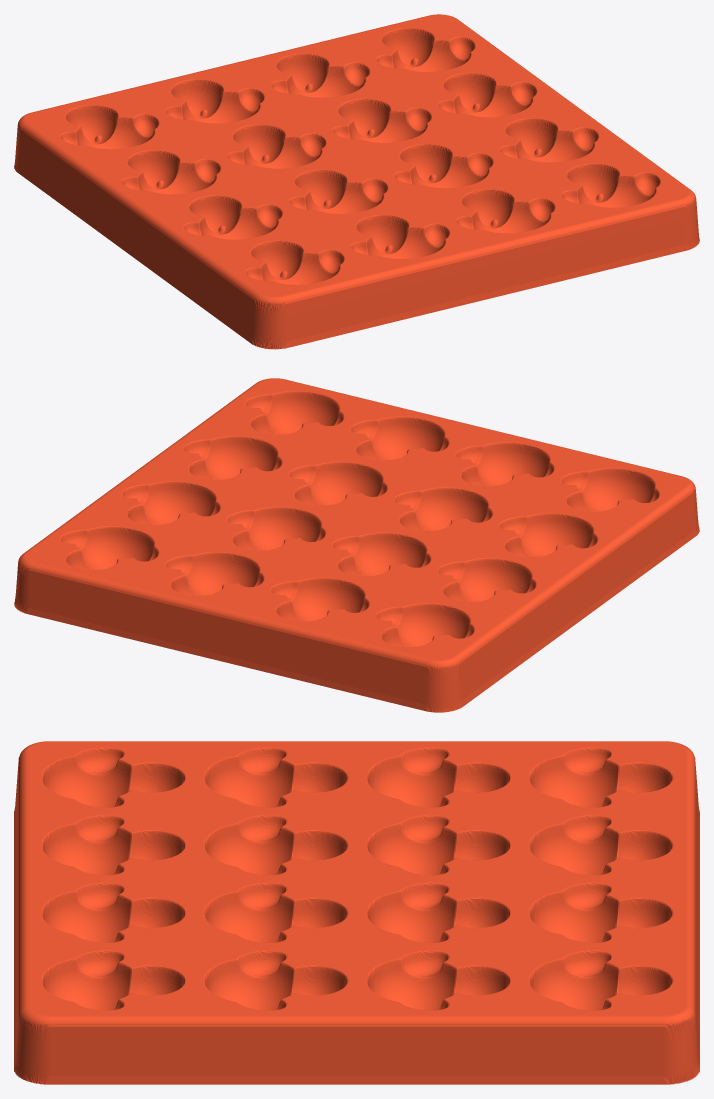
The model's file is mold.glb.
3 renders of one model, top to bottom at view 1: azimuth 30°, elevation 25°; view 2: azimuth 150°, elevation 25°; view 3: azimuth 270°, elevation 25°, orthographic. The views are drawn at different scales.
Parts seen in each view (by area): view 1: geometry_0; view 2: geometry_0; view 3: geometry_0.
Part boxes in pixels (left/top/right/bottom): geometry_0: left=14, top=14, right=699, bottom=349; geometry_0: left=14, top=378, right=699, bottom=712; geometry_0: left=14, top=741, right=699, bottom=1084.
Size of the model in its own units: 0.169 by 0.0174 by 0.1714.
